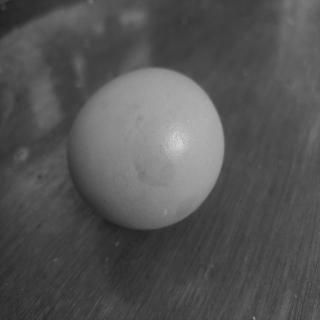Telur: (62, 64, 231, 234)
